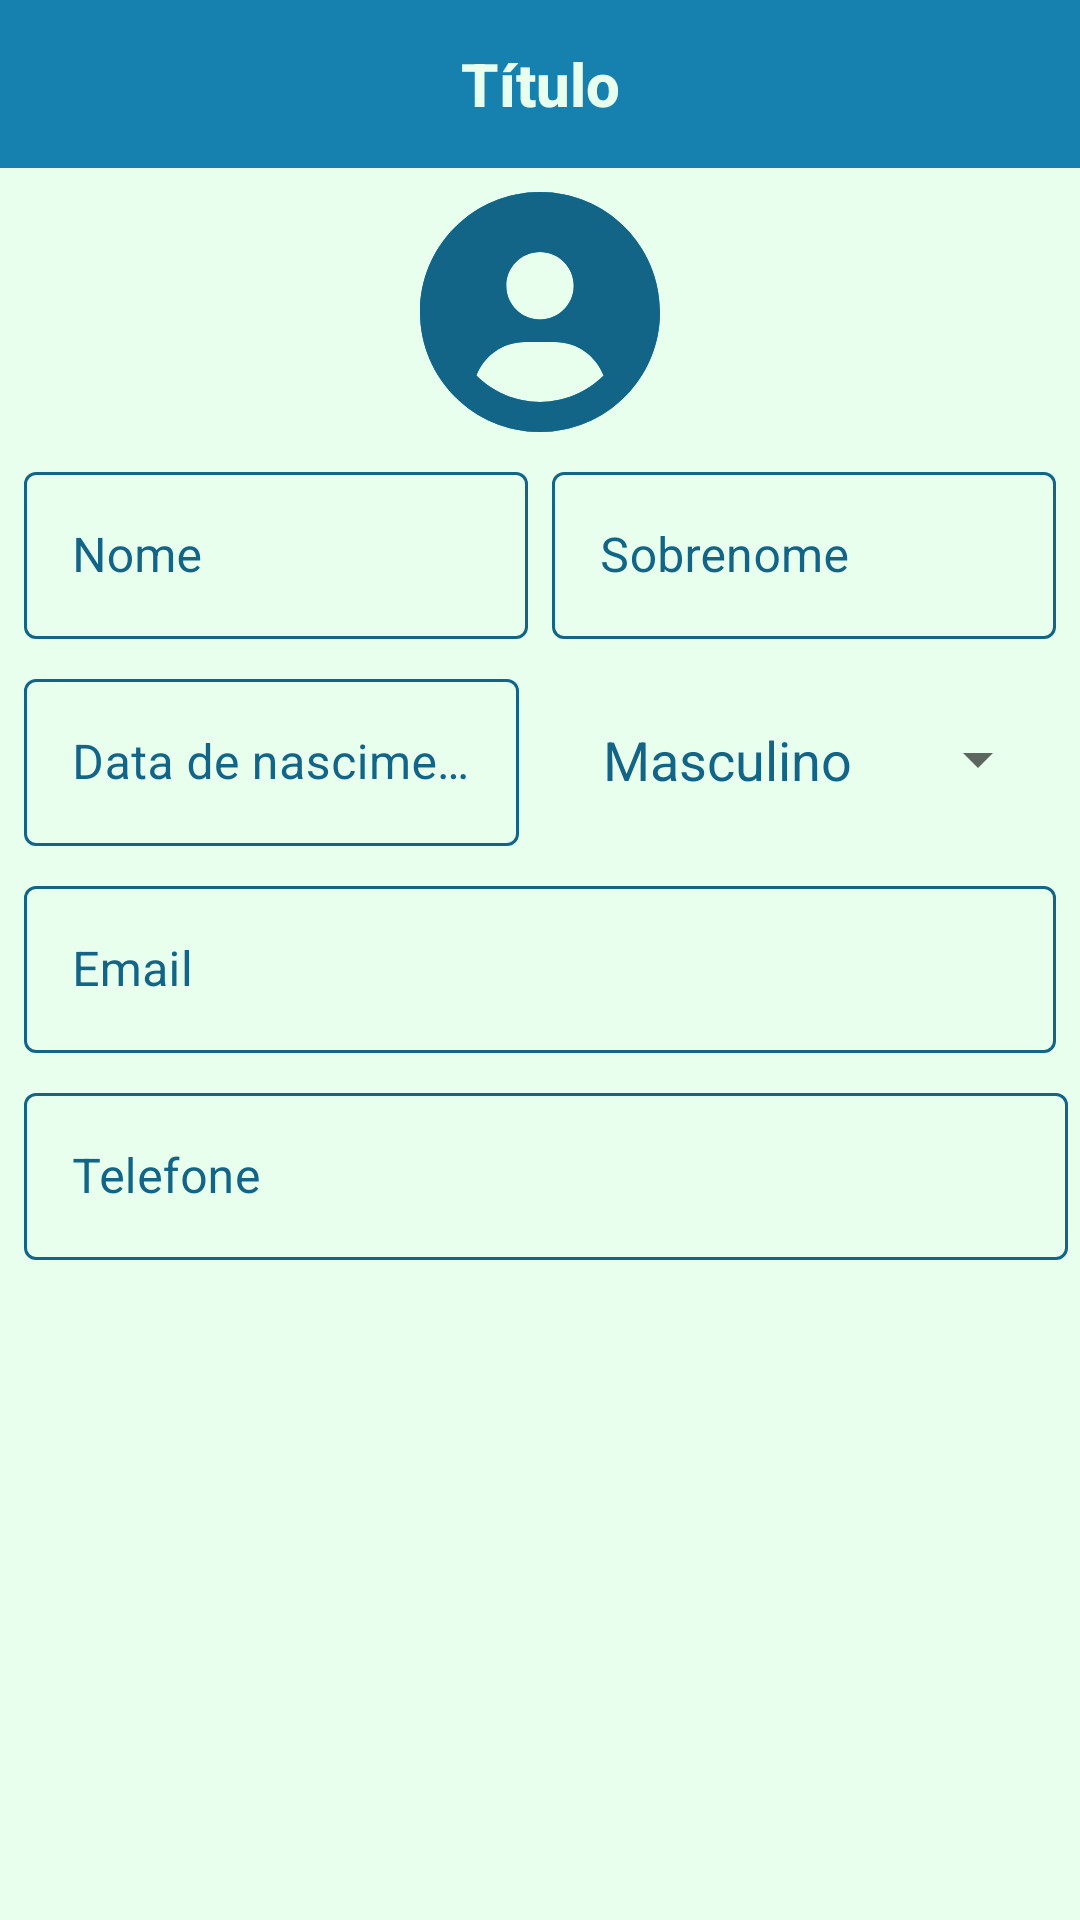

Icon bounding boxes for this 1080px x 1920px phone screenshot, format (x1, y1, x2, y2):
profile: (420, 192, 660, 432)
